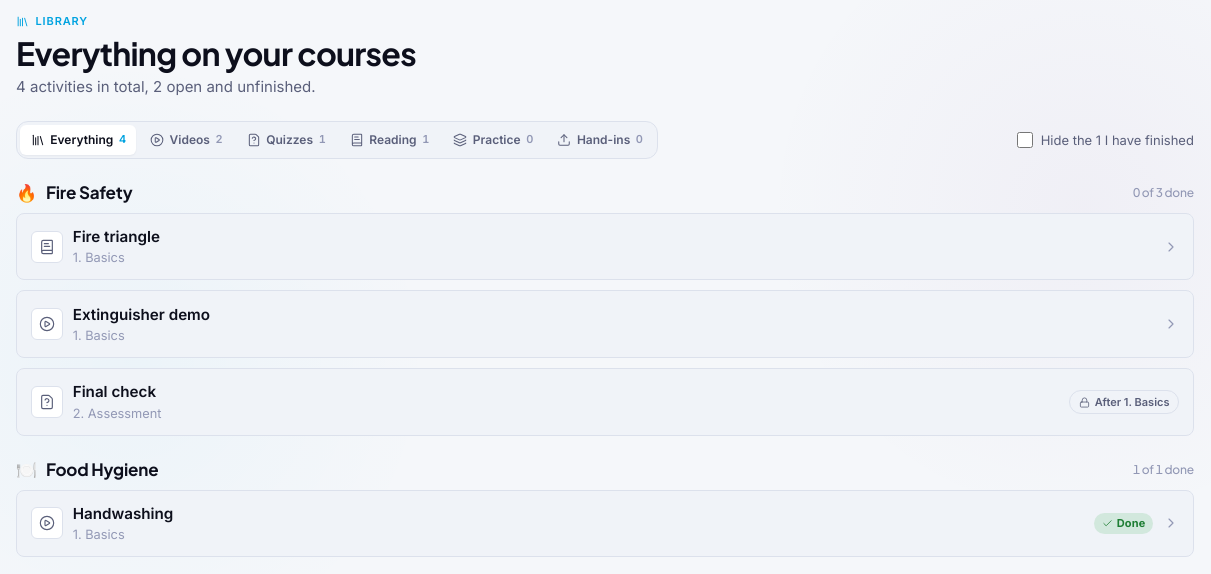
Test case: filtering › can hide what is already finished
The image size is (1211, 574).
Step 1. Click the checkbox labelled "Hide the 1 I have finished" → (1025, 140), box [1017,132,1033,148]
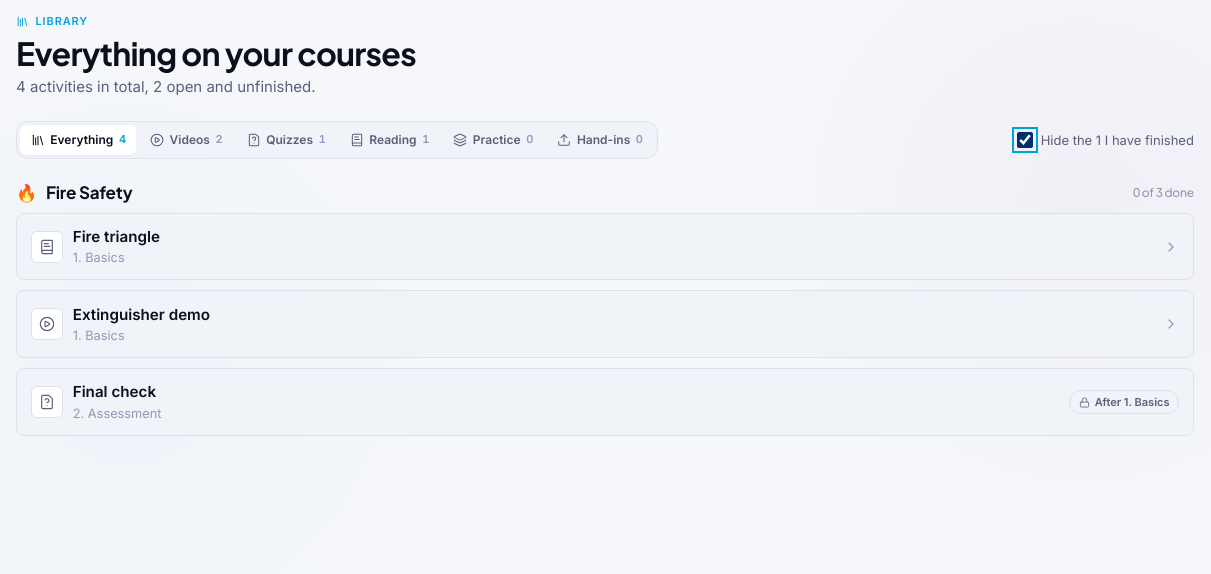
Expected: the text "Fire triangle" is shown, [73,227,160,246]
Expected: the link "Handwashing" is gone
